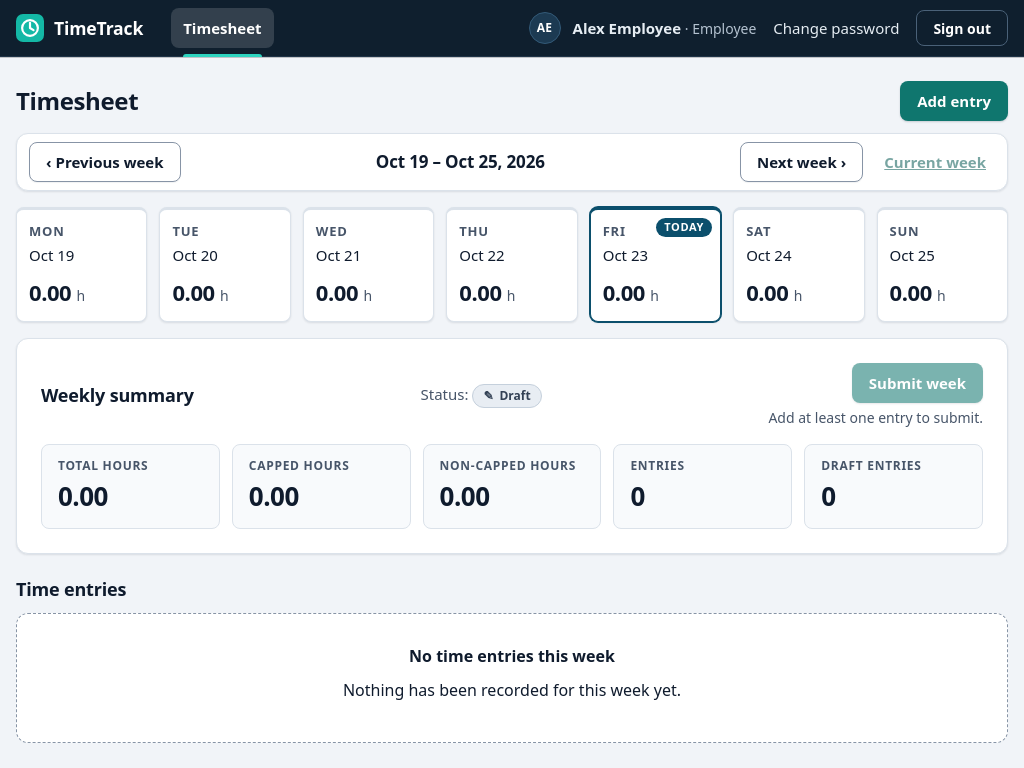
Scenario: Week mode › keeps a live exact total of the enabled days
The image size is (1024, 768).
Click the button "Add entry" at (954, 101), box [900, 81, 1008, 121]
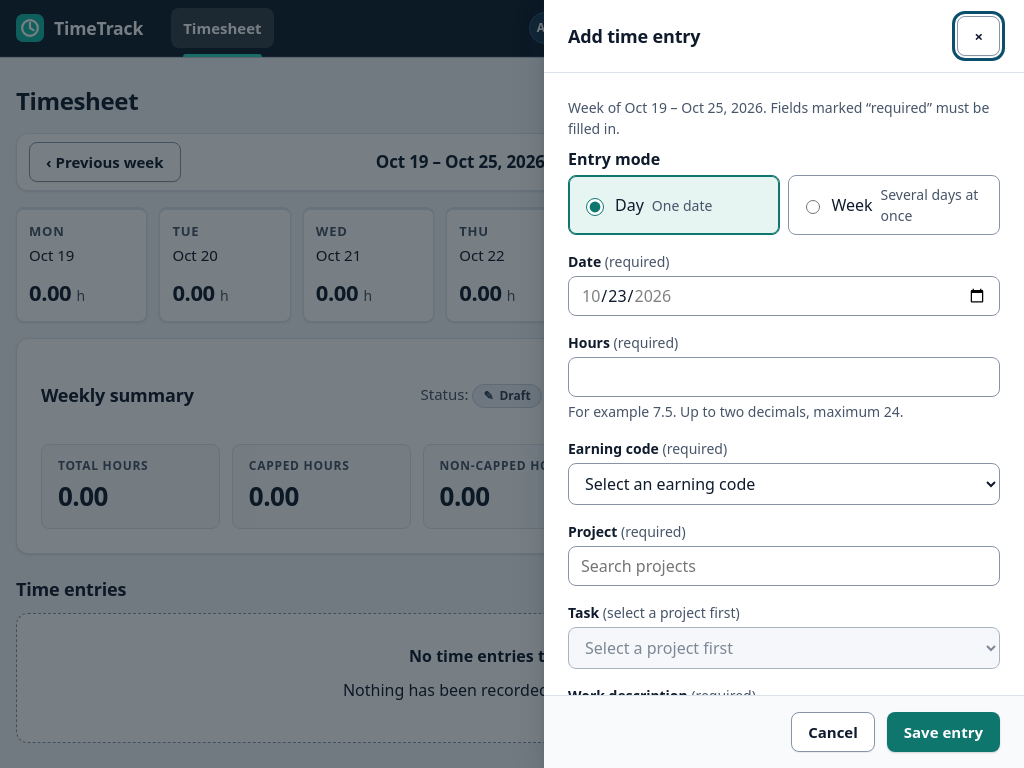
Click the radio button labelled "Week Several days at once" at (813, 206), box [806, 198, 820, 216]
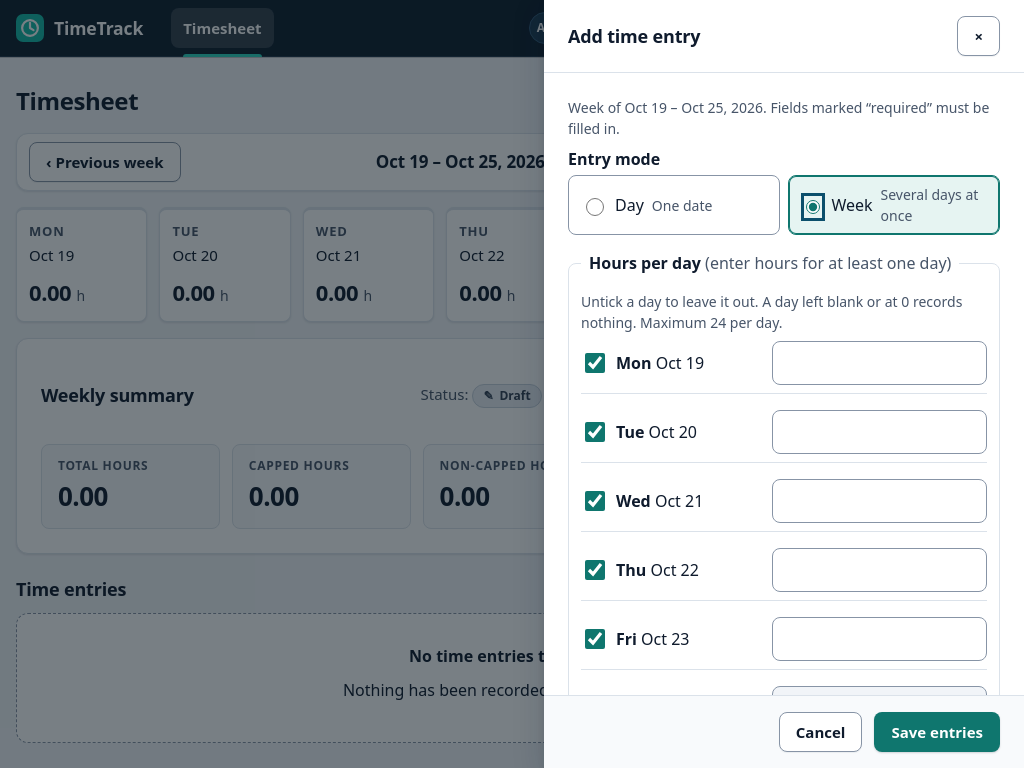
Type "0.1" into the field named "Hours for Monday, October 19" at (880, 363), box [772, 341, 987, 385]
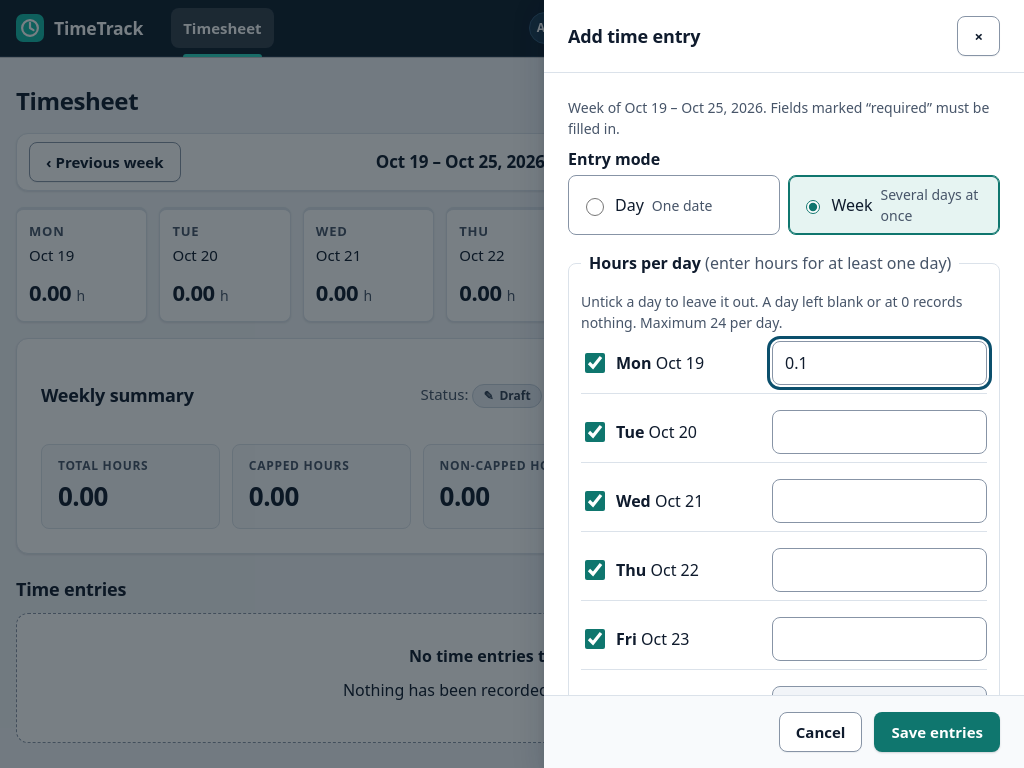
Type "0.2" into the field named "Hours for Tuesday, October 20" at (880, 432), box [772, 410, 987, 454]
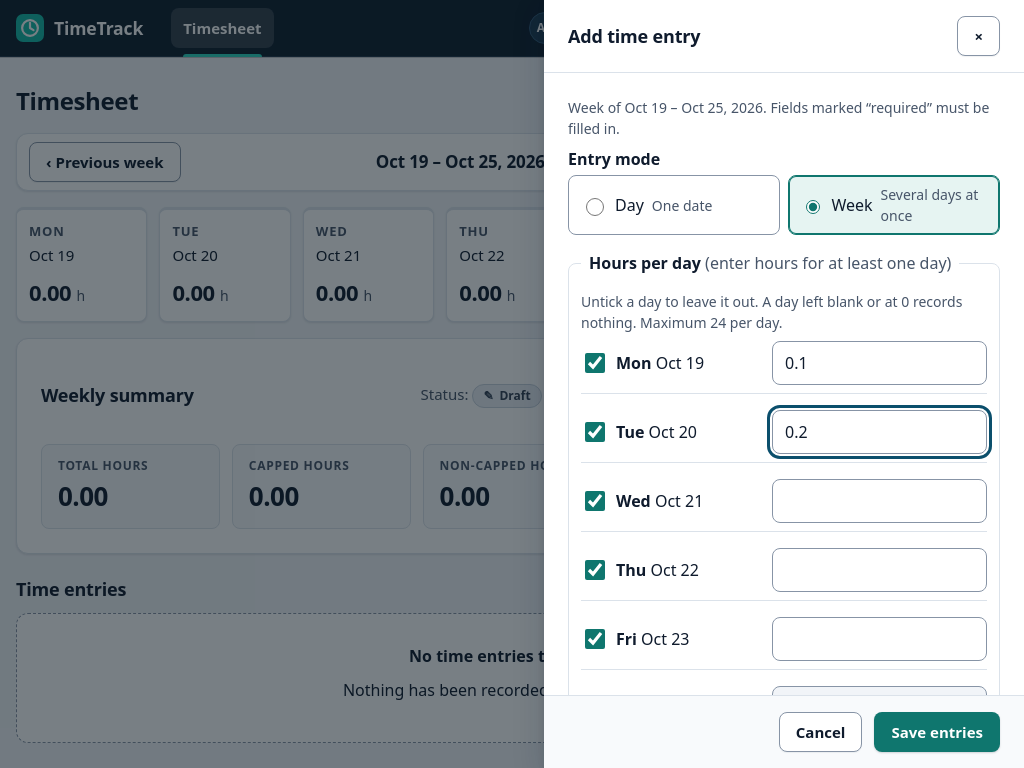
Type "7.5" into the field named "Hours for Wednesday, October 21" at (880, 501), box [772, 479, 987, 523]
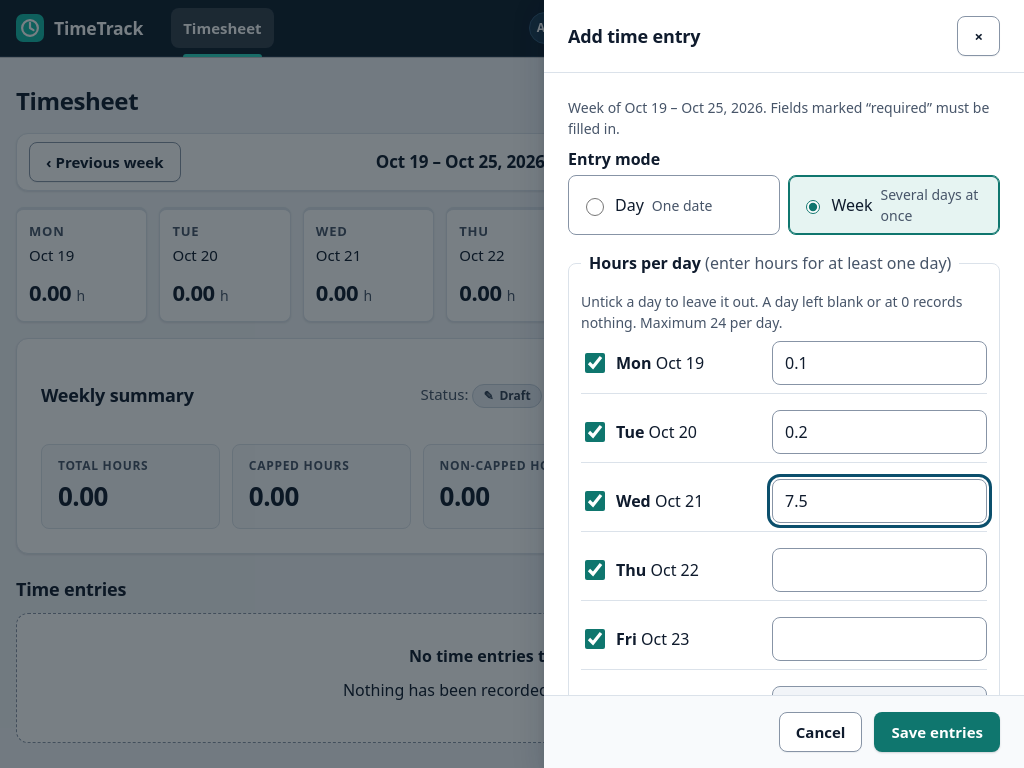
Click the checkbox labelled "Wed Oct 21" at (595, 501), box [585, 491, 605, 511]
(page scrolled)
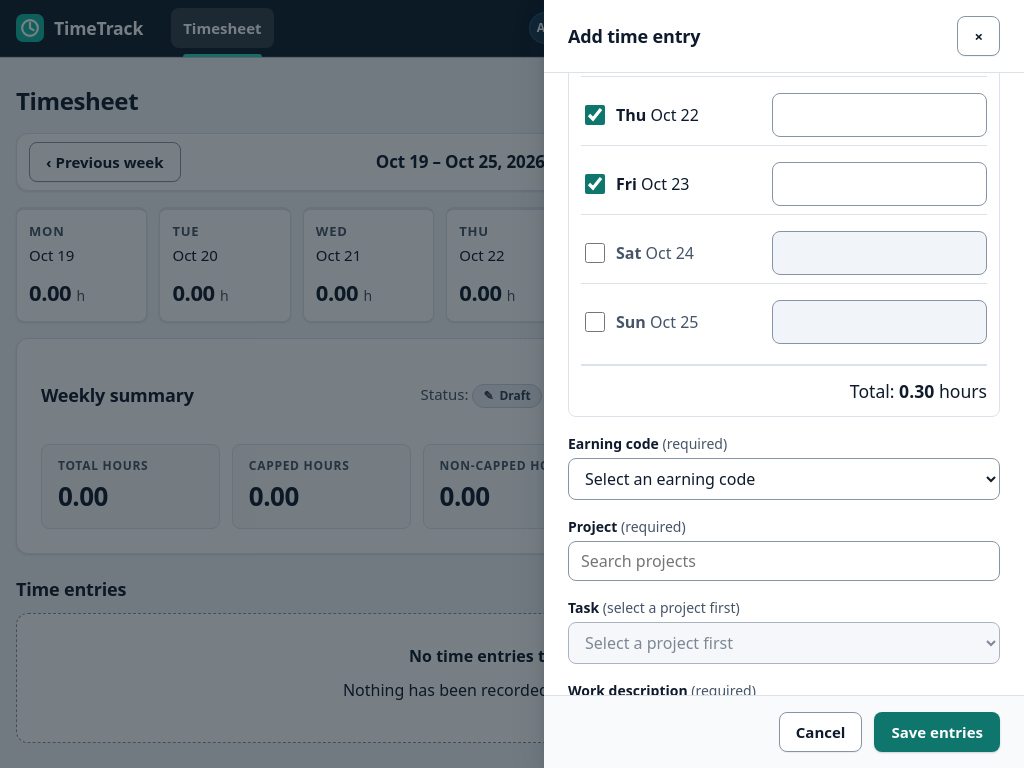
Expected: the text with test id "week-total" reads "0.30", [899, 379, 934, 403]
Expected: the message "Total: 0.30 hours" is shown, [581, 364, 987, 404]
